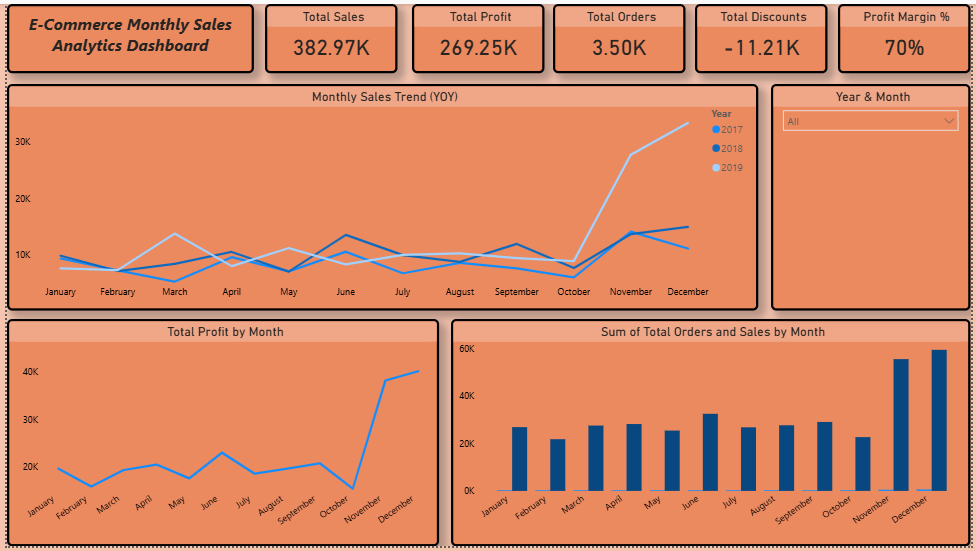

What the dashboard file says about the page in this screenshot:
{"tool":"powerbi","page":{"name":"Monthly Sales Analytics","canvas":[1280,720],"ordinal":0},"visuals":[{"type":"card","title":"Total Sales","fields":{"Values":["e_commerce_sales_analysis monthly_sales.Sum_Total_Sales"]},"box":[342.7,0,176.4,92.4],"z":0},{"type":"card","title":"Total Profit","fields":{"Values":["e_commerce_sales_analysis monthly_sales.Total_Profit"]},"box":[537.5,0,176.4,92.4],"z":1000},{"type":"card","title":"Total Orders","fields":{"Values":["Sum(e_commerce_sales_analysis monthly_sales.total_orders)"]},"box":[725.7,0,176.4,92.4],"z":2000},{"type":"card","title":"Total Discounts","fields":{"Values":["Sum(e_commerce_sales_analysis monthly_sales.discounts)"]},"box":[913.8,0,176.4,92.4],"z":3000},{"type":"card","title":"Profit Margin %","fields":{"Values":["e_commerce_sales_analysis monthly_sales.Profit Margin"]},"box":[1103.6,0,176.4,92.4],"z":4000},{"type":"lineChart","title":"Monthly Sales Trend (YOY)","fields":{"Category":["Date_Table.Month"],"Y":["e_commerce_sales_analysis monthly_sales.Sum_Total_Sales"],"Series":["Date_Table.Year"]},"box":[0,105.8,997.8,300.7],"z":5000},{"type":"lineChart","title":"Total Profit by Month","fields":{"Category":["Date_Table.Month"],"Y":["e_commerce_sales_analysis monthly_sales.Total_Profit"]},"box":[0,418.3,574.5,302.4],"z":6000},{"type":"clusteredColumnChart","title":"Sum of Total Orders and Sales by Month","fields":{"Category":["Date_Table.Month"],"Y":["Sum(e_commerce_sales_analysis monthly_sales.total_orders)","e_commerce_sales_analysis monthly_sales.Sum_Total_Sales"]},"box":[589.6,418.3,690.4,302.4],"z":7000},{"type":"slicer","title":"Year & Month","fields":{"Values":["e_commerce_sales_analysis monthly_sales.year","e_commerce_sales_analysis monthly_sales.month"]},"box":[1014.6,105.8,265.4,300.7],"z":8000},{"type":"textbox","box":[0,0,327.6,92.4],"z":9000}]}

Visuals, with their boxes in screenshot pixels (x1, y1, x2, y2), scaled from the page's 1280x720 canvas onto the 976x551 screenshot:
"Total Sales" card: pyautogui.locateOnScreen(261, 0, 396, 71)
"Total Profit" card: pyautogui.locateOnScreen(410, 0, 544, 71)
"Total Orders" card: pyautogui.locateOnScreen(553, 0, 688, 71)
"Total Discounts" card: pyautogui.locateOnScreen(697, 0, 831, 71)
"Profit Margin %" card: pyautogui.locateOnScreen(841, 0, 975, 71)
"Monthly Sales Trend (YOY)" lineChart: pyautogui.locateOnScreen(0, 81, 761, 311)
"Total Profit by Month" lineChart: pyautogui.locateOnScreen(0, 320, 438, 550)
"Sum of Total Orders and Sales by Month" clusteredColumnChart: pyautogui.locateOnScreen(450, 320, 975, 550)
"Year & Month" slicer: pyautogui.locateOnScreen(774, 81, 975, 311)
textbox: pyautogui.locateOnScreen(0, 0, 250, 71)
